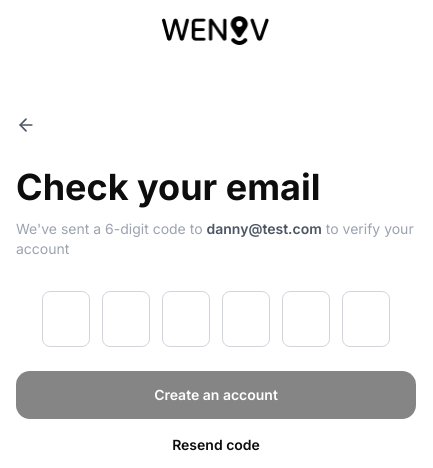
Test case: Email verification page › enables submit button when all 6 digits are filled
Click the 1st field at (66, 319), box x1=42 y1=291 x2=90 y2=347
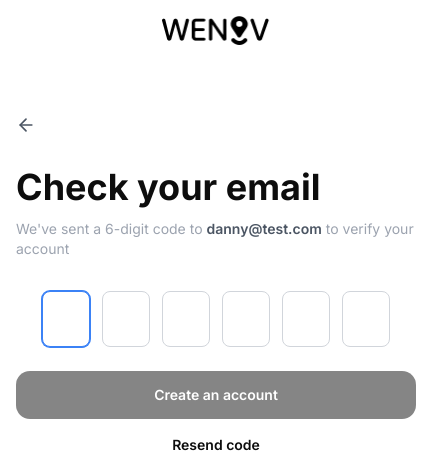
Type keys "123456"
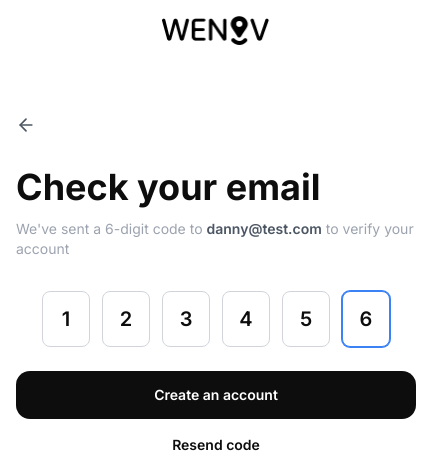
Now the button "Create an account" is enabled, box x1=16 y1=371 x2=416 y2=419
